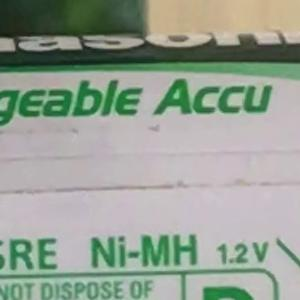NI-MH: (69, 227, 200, 285)
